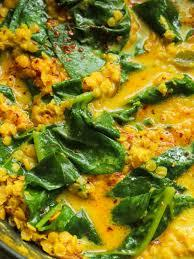Dhal Curry: (2, 4, 189, 258)
